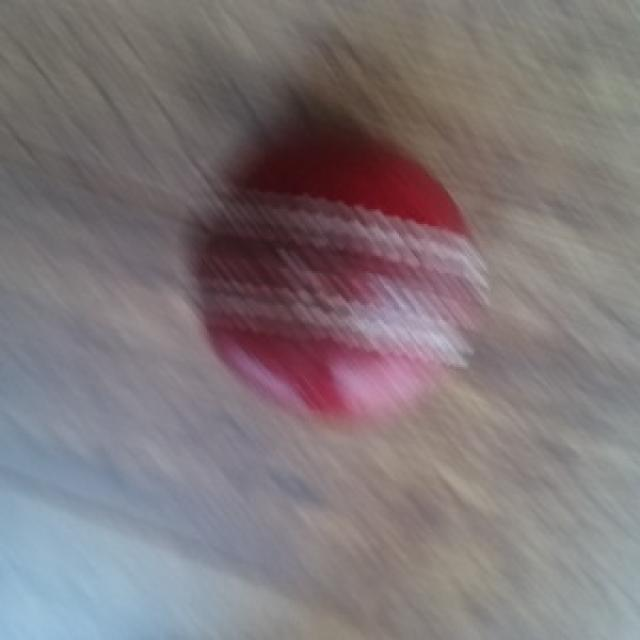ball: (199, 132, 489, 426)
